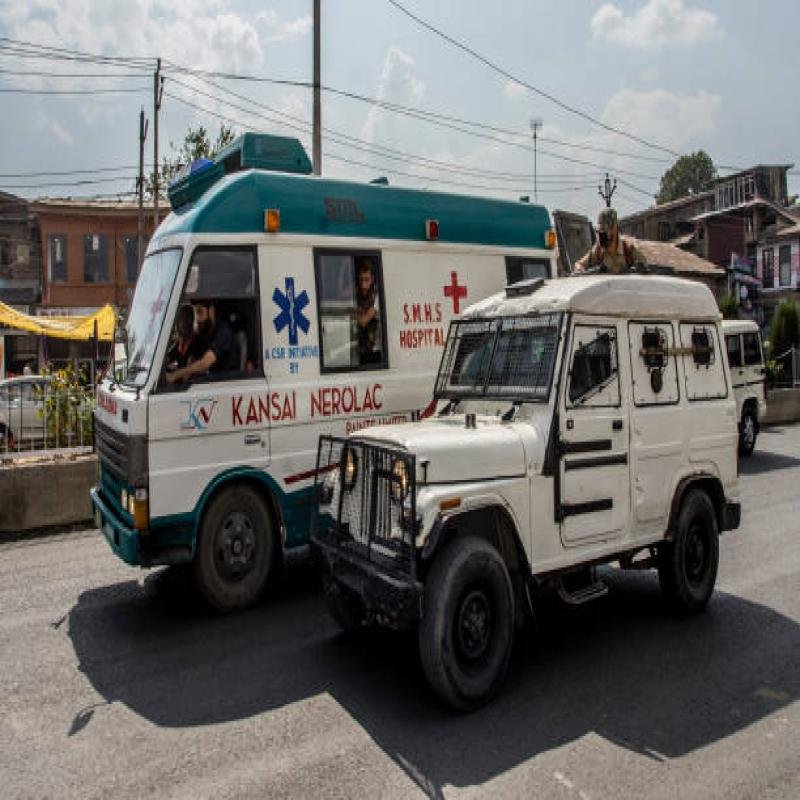ambulance: (72, 118, 564, 556)
